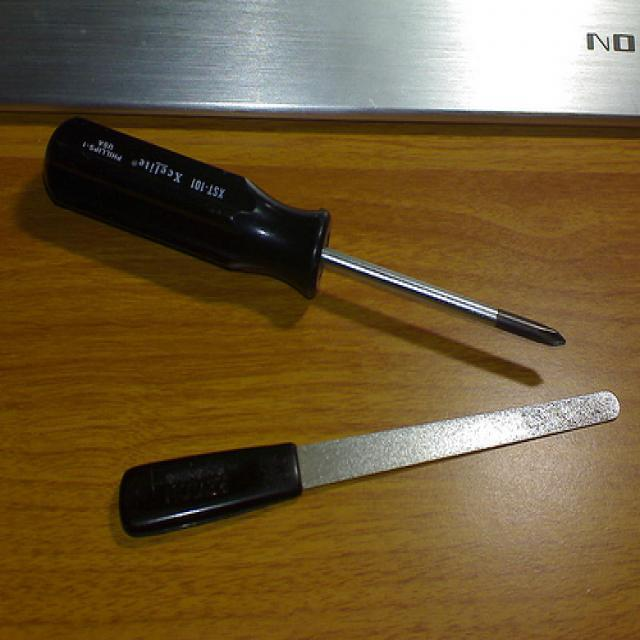screwdriver: (32, 94, 581, 367)
